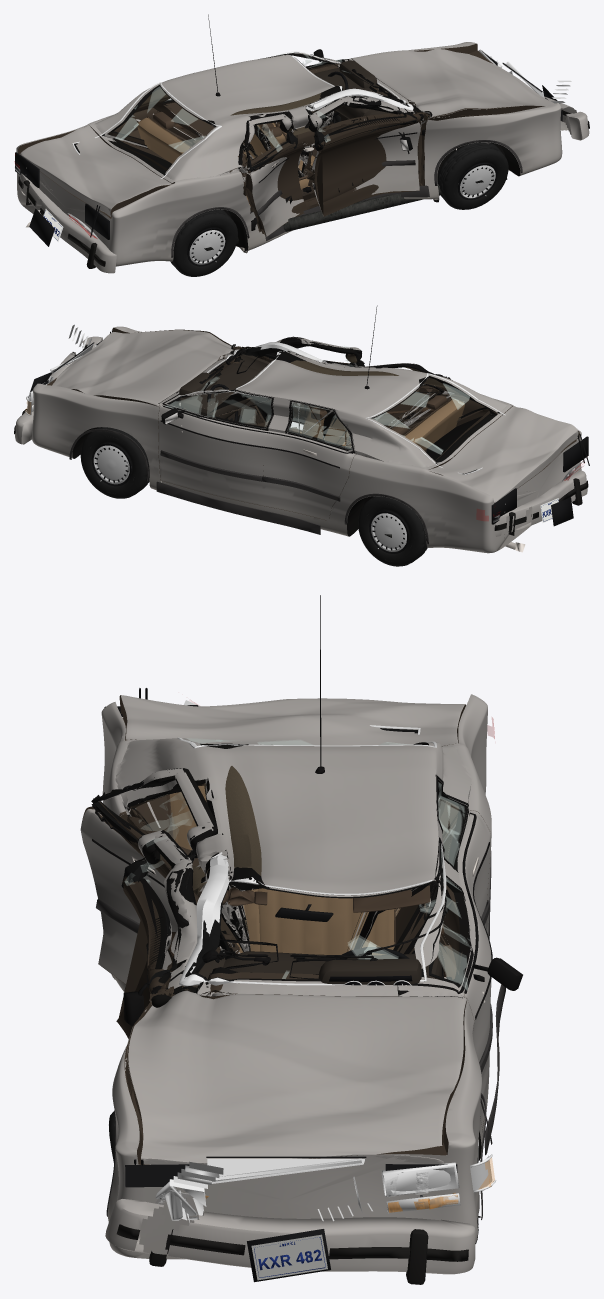
Rendered from sedan87_side_R_d2_lod1.glb.
3 views of the same model, one above another, from view 1: azimuth 30°, elevation 25°; view 2: azimuth 150°, elevation 25°; view 3: azimuth 270°, elevation 25° (orthographic). The views are drawn at different scales.
Parts seen in each view (by area): view 1: Body, Door_FR, Hood, Trunk, Door_RR, Interior, Wheel_FR_mesh, Wheel_RR_mesh, Glass, Ends, Bumper_R, Trim (+7 smaller); view 2: Body, Hood, Door_FL, Trunk, Door_RL, Interior, Wheel_FL_mesh, Wheel_RL_mesh, Trim, Ends, Glass, Bumper_R (+8 smaller); view 3: Body, Hood, Bumper_F, Interior, Trunk, Ends, Door_RR, Door_FR, Glass, Door_FL, Trim_FL, Door_RL (+8 smaller).
Boxes of the visible parts, bbox=[...] form: Body: bbox=[16, 42, 562, 266]; Door_FR: bbox=[306, 95, 424, 216]; Hood: bbox=[350, 49, 554, 118]; Trunk: bbox=[20, 125, 171, 216]; Door_RR: bbox=[243, 113, 307, 236]; Interior: bbox=[137, 60, 413, 206]; Wheel_FR_mesh: bbox=[437, 142, 508, 209]; Wheel_RR_mesh: bbox=[170, 209, 237, 276]; Glass: bbox=[72, 51, 413, 178]; Ends: bbox=[15, 49, 571, 246]; Bumper_R: bbox=[18, 173, 116, 273]; Trim: bbox=[171, 14, 522, 257]; Body: bbox=[32, 326, 581, 553]; Hood: bbox=[52, 329, 235, 406]; Door_FL: bbox=[158, 390, 273, 505]; Trunk: bbox=[428, 406, 578, 503]; Door_RL: bbox=[260, 400, 356, 520]; Interior: bbox=[177, 354, 464, 450]; Wheel_FL_mesh: bbox=[80, 427, 149, 498]; Wheel_RL_mesh: bbox=[358, 496, 427, 566]; Trim: bbox=[69, 305, 428, 544]; Ends: bbox=[25, 324, 589, 526]; Glass: bbox=[178, 342, 505, 474]; Bumper_R: bbox=[494, 470, 588, 536]; Body: bbox=[101, 694, 491, 1259]; Hood: bbox=[127, 990, 466, 1164]; Bumper_F: bbox=[105, 1199, 475, 1284]; Interior: bbox=[166, 783, 442, 992]; Trunk: bbox=[119, 695, 465, 745]; Ends: bbox=[104, 688, 496, 1282]; Door_RR: bbox=[80, 768, 217, 984]; Door_FR: bbox=[116, 830, 197, 1039]; Glass: bbox=[177, 725, 446, 986]; Door_FL: bbox=[398, 837, 491, 1129]; Trim_FL: bbox=[289, 837, 522, 1073]; Door_RL: bbox=[435, 775, 490, 944].
Bounding box in the file's own units: 5.06 × 2.04 × 1.88.
33 materials, 5 textured.
